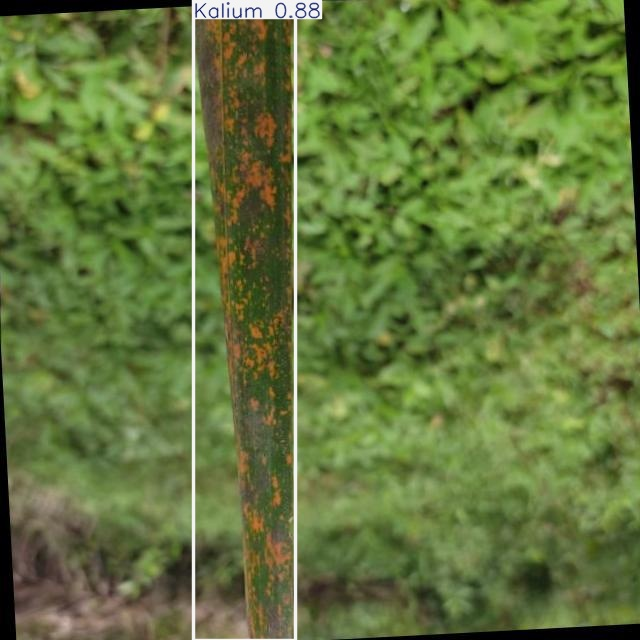Kalium: (193, 0, 295, 640)
